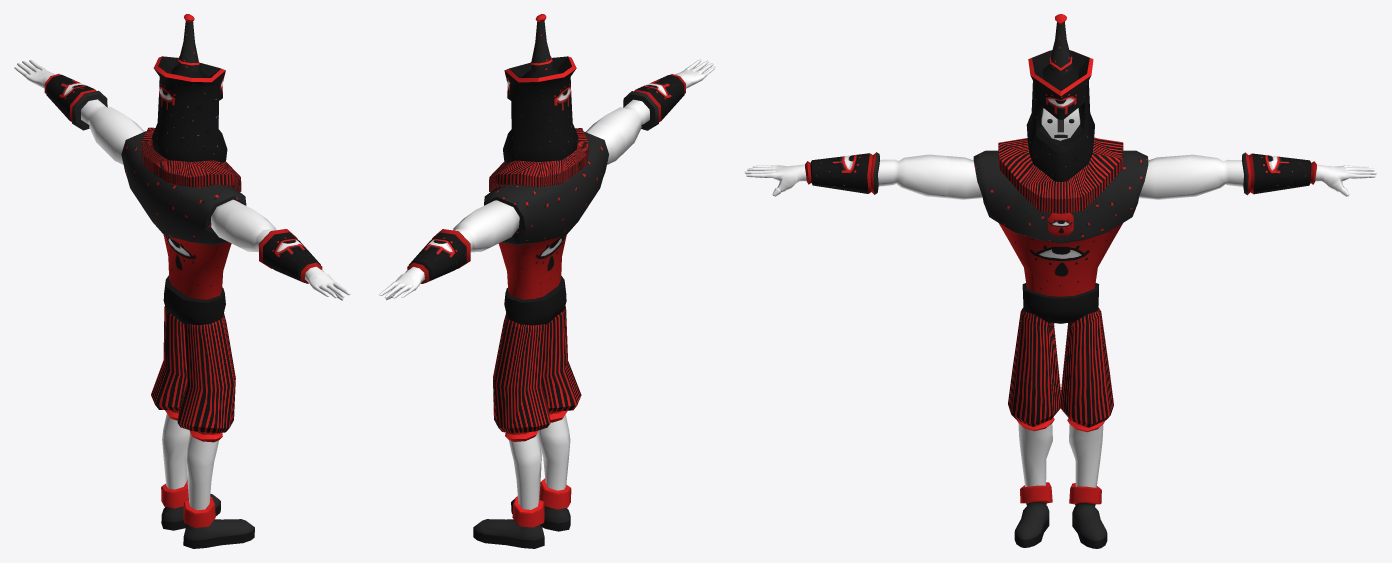
The model's file is Eye_Fighter.glb.
The picture shows the model from 3 angles, left to right: view 1: azimuth 30°, elevation 25°; view 2: azimuth 150°, elevation 25°; view 3: azimuth 270°, elevation 25°; orthographic projection.
Parts seen in each view (by area): view 1: _100Avatars_168_EYEFighter; view 2: _100Avatars_168_EYEFighter; view 3: _100Avatars_168_EYEFighter.
Part boxes in pixels (box(x1,y1,x2,y2)): _100Avatars_168_EYEFighter: box(14, 14, 350, 548); _100Avatars_168_EYEFighter: box(379, 14, 715, 548); _100Avatars_168_EYEFighter: box(744, 14, 1377, 548).
Bounding box in the file's own units: 0.6758 × 3.81 × 4.28.
Materials: 1 (1 with a texture image).
